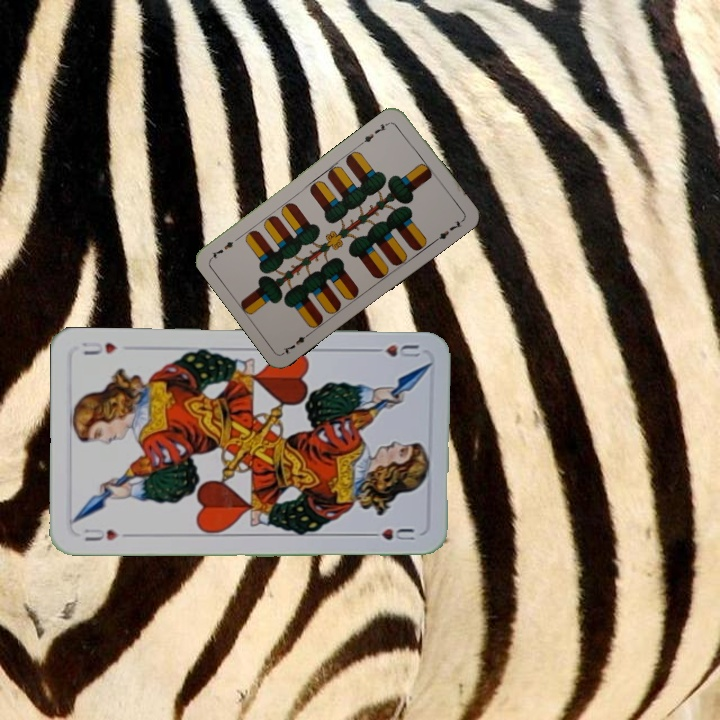E7: (279, 328, 314, 357), (358, 118, 392, 146)
HU: (365, 341, 422, 360), (80, 524, 133, 544)
